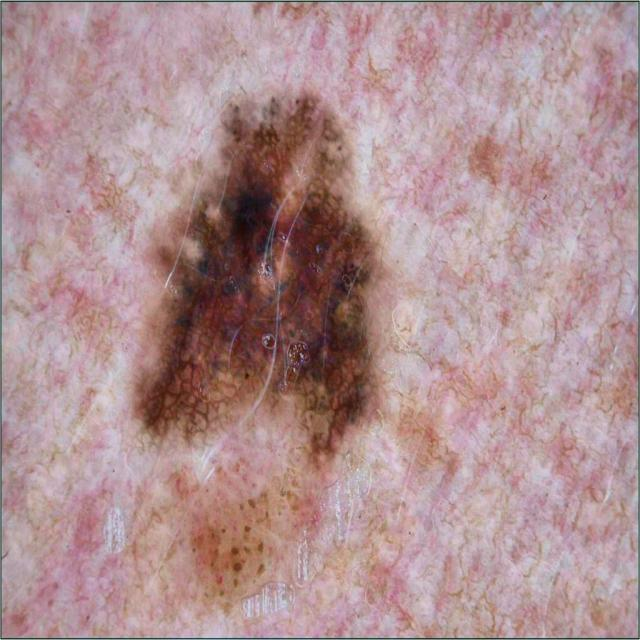Melanocytic-Nevi-NV-: (138, 92, 378, 595)
